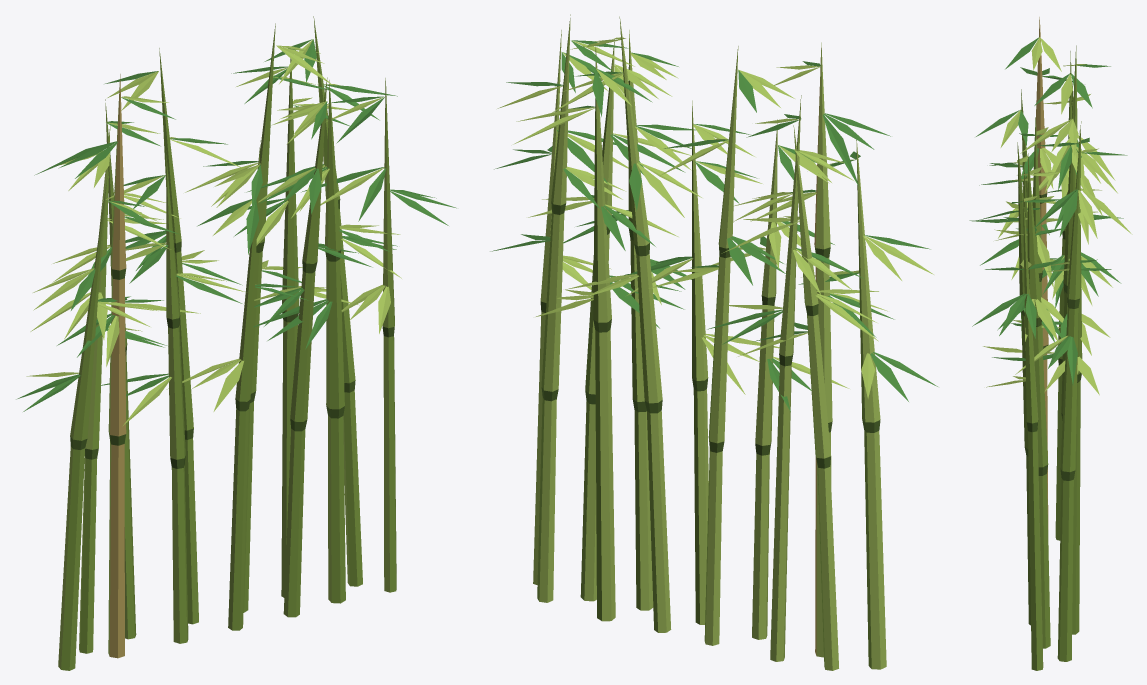
Rendered from bamboo_wall.fbx.
The picture shows the model from 3 angles, left to right: view 1: azimuth 30°, elevation 25°; view 2: azimuth 150°, elevation 25°; view 3: azimuth 270°, elevation 25°; orthographic projection. The views are drawn at different scales.
Parts seen in each view (by area): view 1: bamboo_wall; view 2: bamboo_wall; view 3: bamboo_wall.
Boxes of the visible parts, x1,y1,x2,y2 form: bamboo_wall: (16,16,456,670); bamboo_wall: (490,14,937,670); bamboo_wall: (969,17,1132,670).
Size of the model in its own units: 7.1 by 9.36 by 2.62.
